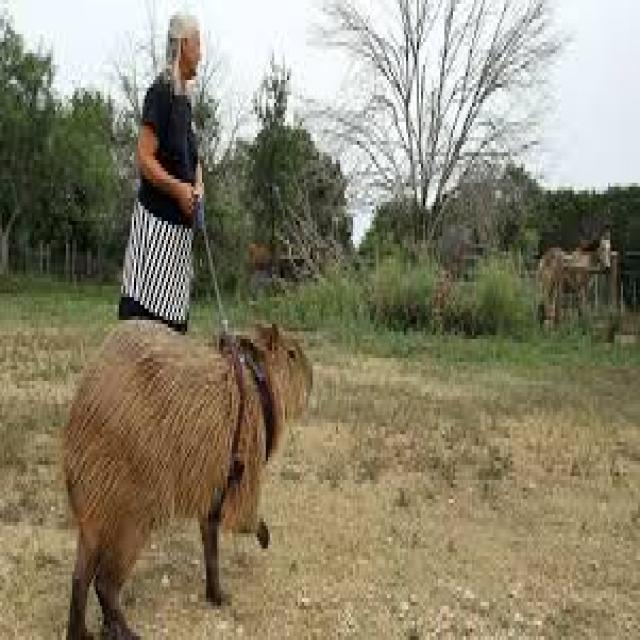capy: (58, 315, 315, 640)
